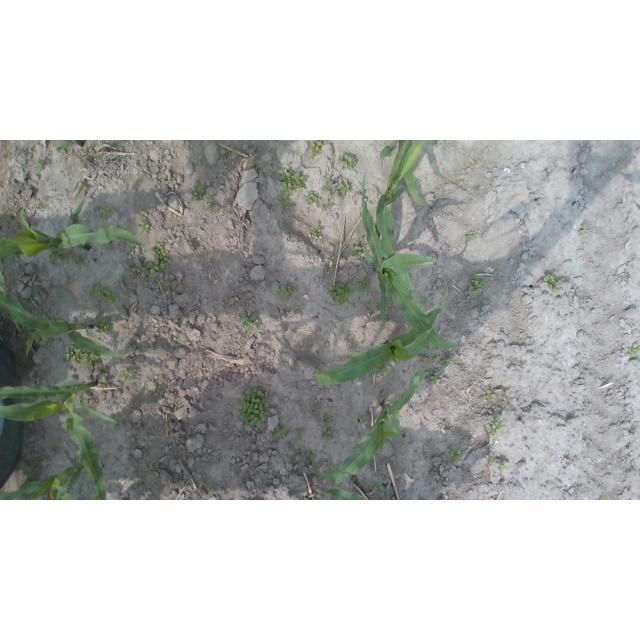Maize: (358, 174, 462, 354), (309, 347, 433, 485), (313, 275, 449, 386), (1, 380, 116, 500), (0, 269, 132, 359), (0, 198, 144, 259), (374, 141, 422, 292), (1, 453, 102, 500), (380, 140, 425, 208), (322, 481, 395, 500), (51, 140, 83, 148)
Weeds: (238, 386, 271, 429), (277, 170, 307, 205), (64, 345, 100, 368), (143, 244, 169, 275), (87, 282, 119, 306), (327, 282, 351, 305), (239, 311, 258, 333), (319, 412, 338, 432), (48, 246, 71, 262), (136, 210, 151, 234), (94, 315, 114, 333), (467, 274, 485, 294), (544, 273, 562, 292), (310, 140, 328, 158), (446, 446, 463, 465), (277, 280, 293, 300), (487, 416, 502, 436), (354, 276, 371, 293), (337, 154, 355, 170), (124, 262, 139, 279), (119, 369, 136, 384), (294, 427, 311, 442), (98, 204, 116, 218), (320, 181, 338, 195), (305, 191, 320, 207), (191, 184, 205, 199), (274, 425, 287, 440), (627, 342, 640, 357), (337, 180, 353, 192), (76, 180, 89, 194), (71, 254, 85, 267), (481, 390, 495, 403), (20, 297, 35, 309), (47, 442, 59, 456), (426, 371, 440, 383), (350, 246, 365, 257), (485, 451, 496, 465), (380, 363, 391, 377), (322, 430, 334, 442), (33, 159, 44, 171), (362, 412, 373, 424), (439, 354, 450, 366), (311, 224, 322, 236), (321, 201, 332, 212), (283, 443, 295, 453), (496, 462, 511, 470), (206, 203, 217, 213), (164, 280, 177, 288), (20, 461, 30, 471), (34, 201, 44, 210), (364, 300, 374, 309), (579, 225, 589, 234), (431, 141, 442, 148), (204, 194, 212, 203), (102, 364, 110, 373), (154, 466, 163, 474), (420, 298, 428, 307), (356, 238, 364, 247), (337, 192, 346, 200), (466, 232, 474, 241), (304, 454, 312, 462), (422, 342, 430, 349), (472, 185, 481, 191), (221, 151, 228, 158), (101, 380, 108, 387), (190, 198, 197, 204), (55, 409, 62, 415), (291, 363, 297, 370), (391, 334, 397, 340), (224, 161, 229, 168), (386, 153, 393, 158), (519, 361, 527, 365), (600, 496, 607, 500), (210, 486, 217, 490), (358, 433, 363, 438), (391, 497, 396, 500)
